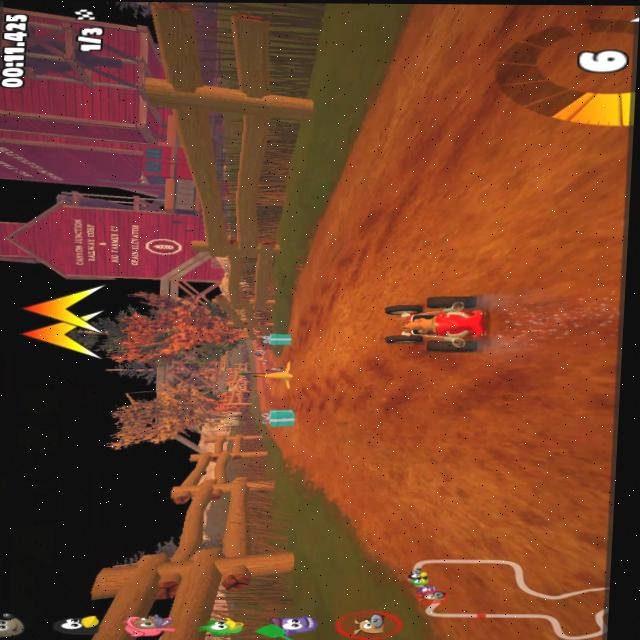bonus: (252, 408, 302, 427), (265, 329, 294, 349)
obstacle: (256, 364, 295, 382)
player_kart: (376, 293, 485, 357)
track: (526, 124, 628, 568), (368, 355, 538, 536), (397, 13, 479, 285), (299, 220, 385, 463), (464, 109, 543, 281), (336, 124, 400, 213), (498, 283, 534, 356), (256, 386, 301, 402), (247, 337, 264, 354), (281, 429, 298, 445)
